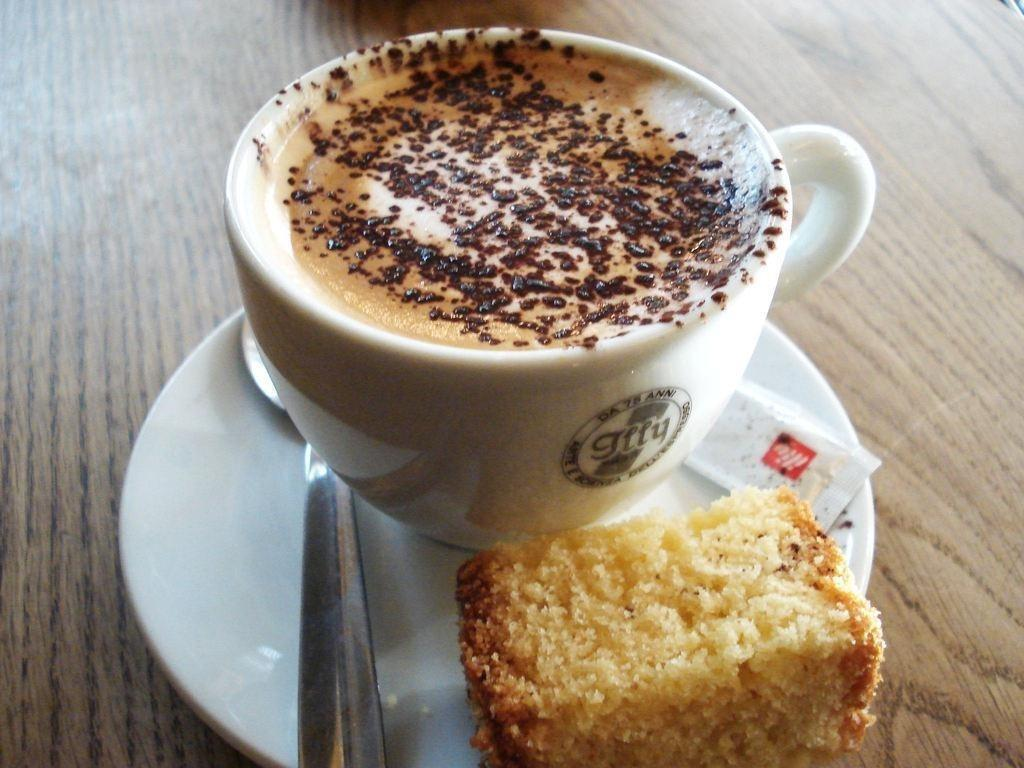cup-handle: (218, 20, 880, 553)
